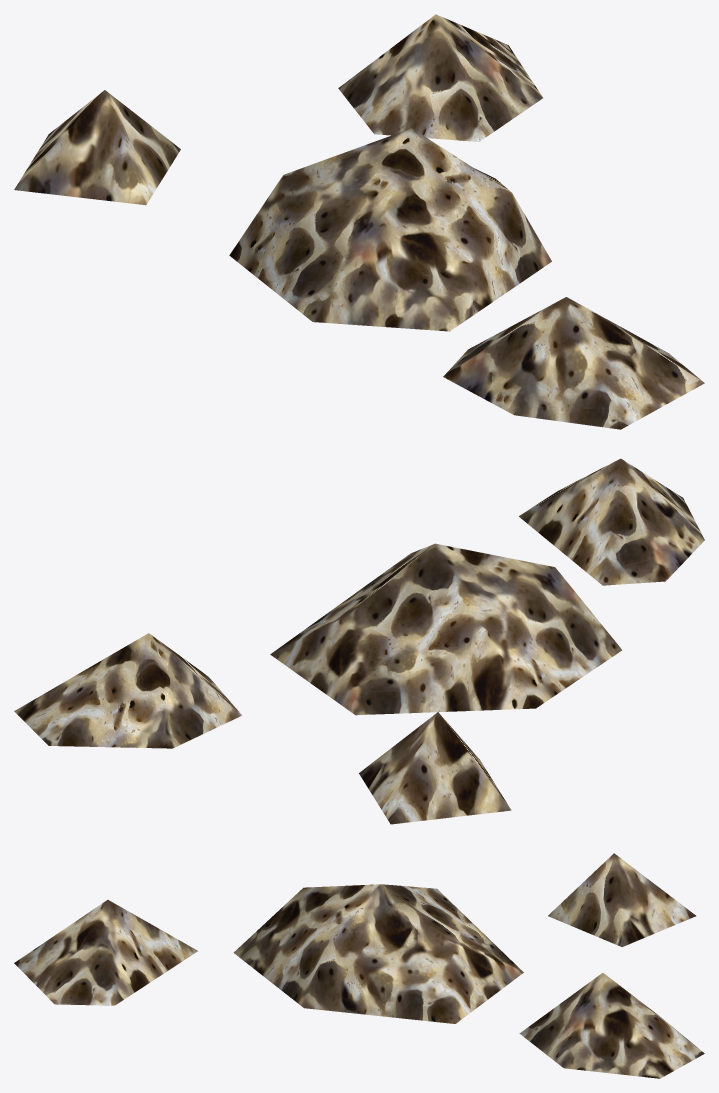
File: CoralStone-04_LOD2.fbx
3 views of the same model, one above another, from view 1: azimuth 30°, elevation 25°; view 2: azimuth 150°, elevation 25°; view 3: azimuth 270°, elevation 25° (orthographic). The views are drawn at different scales.
Parts seen in each view (by area): view 1: CoralStone-04_low; view 2: CoralStone-04_low; view 3: CoralStone-04_low.
Part boxes in pixels (x1,y1,x2,y2): CoralStone-04_low: (14, 14, 704, 429); CoralStone-04_low: (14, 458, 704, 824); CoralStone-04_low: (14, 853, 704, 1078).
Bounding box in the file's own units: 0.3371 × 0.0733 × 0.5075.
